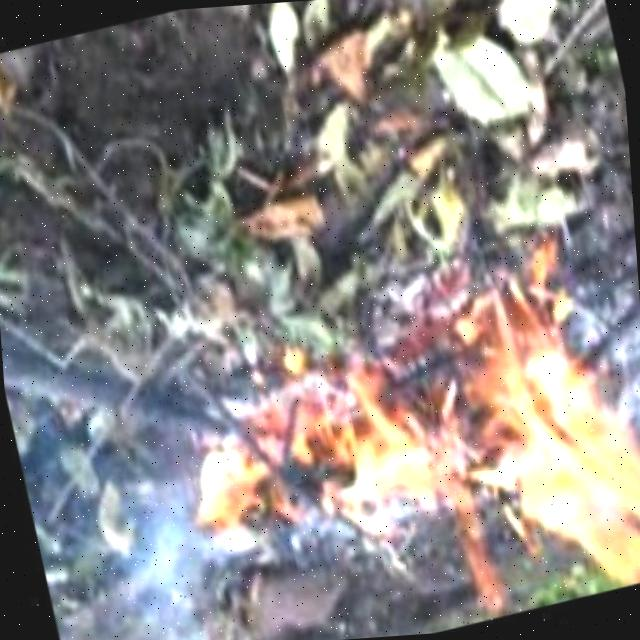fire: (419, 279, 640, 625), (171, 352, 463, 551)
